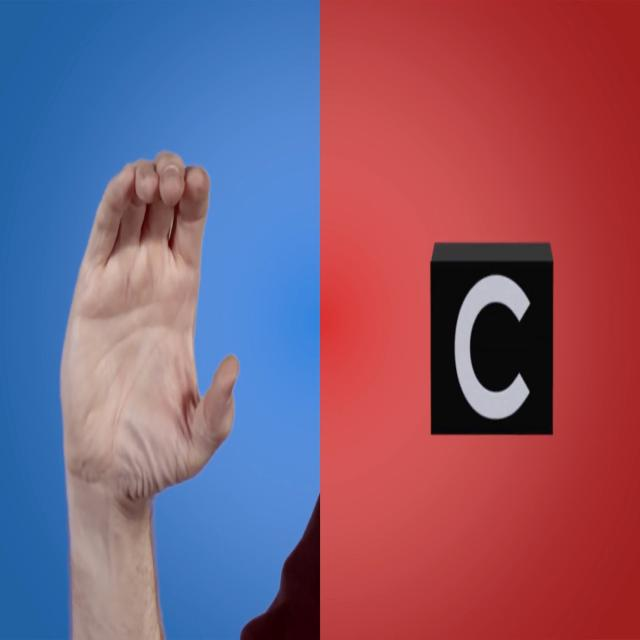C: (48, 97, 255, 640)
